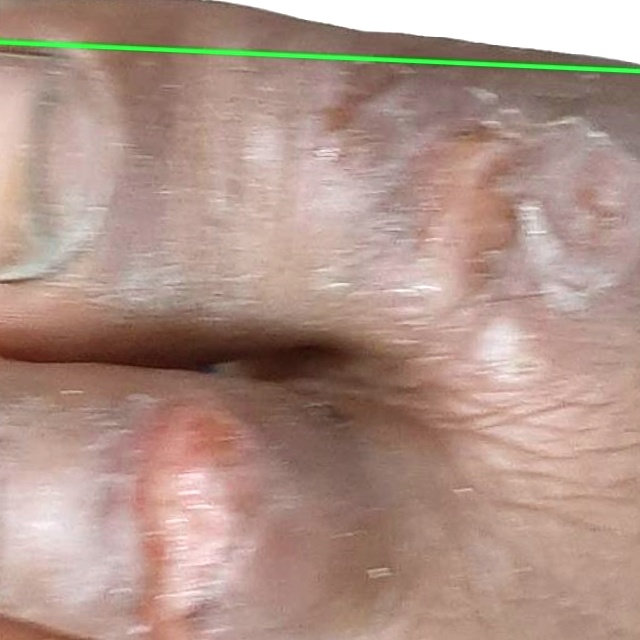Eczema: (0, 0, 639, 71)
